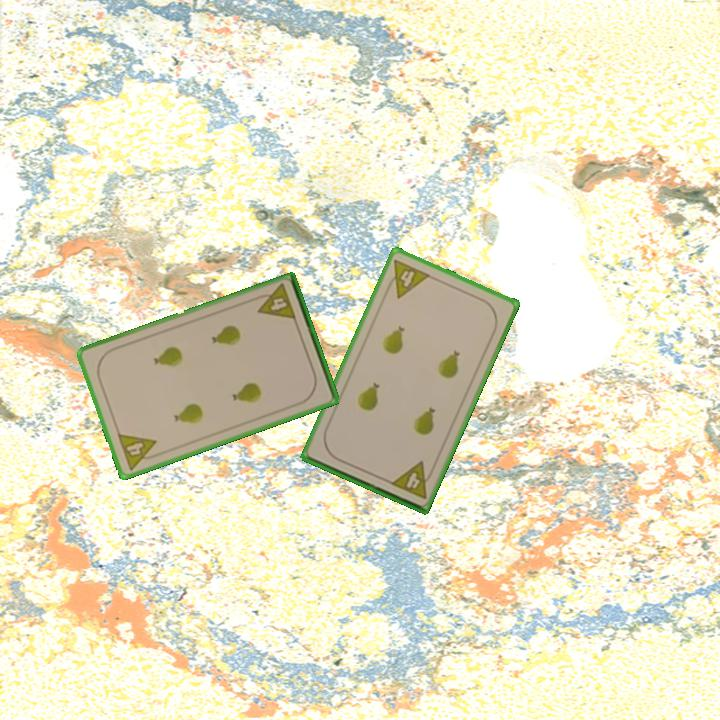4p: (381, 256, 433, 301), (387, 458, 437, 502), (114, 430, 163, 473), (251, 280, 299, 323)
